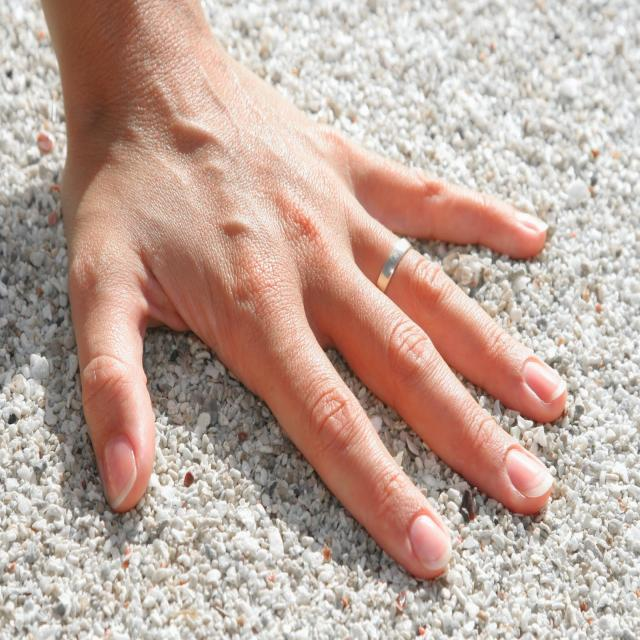Nail: (101, 433, 135, 507), (409, 515, 452, 572), (507, 449, 554, 498), (524, 360, 568, 403), (516, 209, 550, 235)
